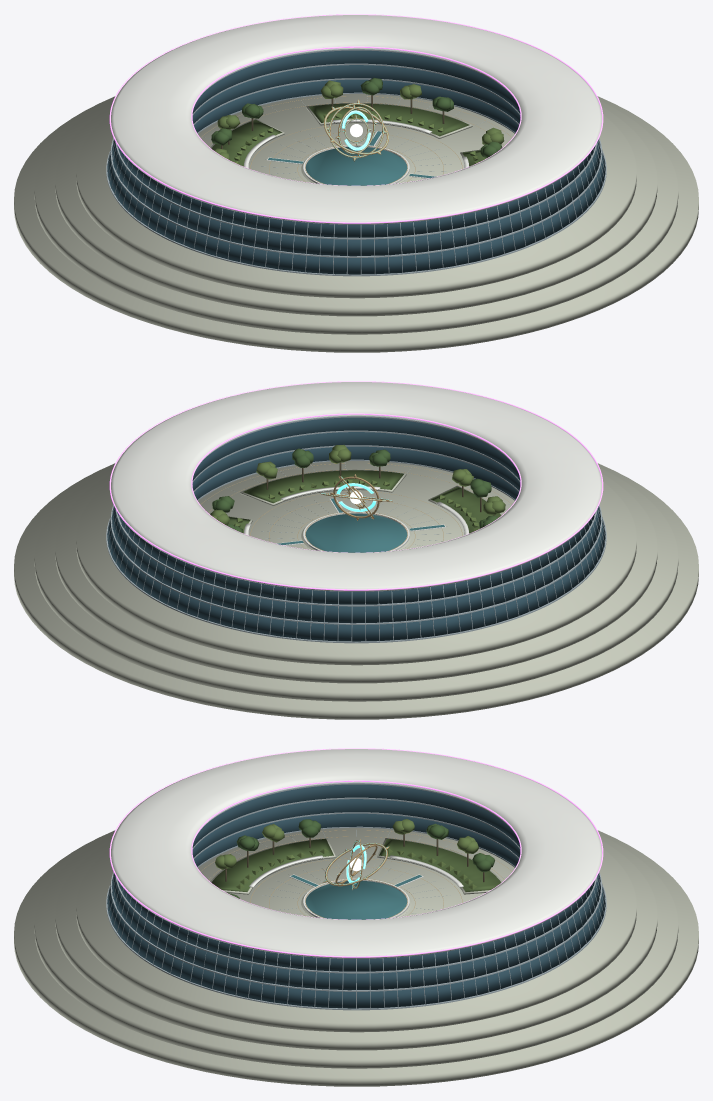
File: ring-low.glb
3 views of the same model, one above another, from view 1: azimuth 30°, elevation 25°; view 2: azimuth 150°, elevation 25°; view 3: azimuth 270°, elevation 25° (orthographic).
Visible parts, largest first — view 1: ring / Ring limestone paving, ring / Ring porcelain crown, ring / Ring blue glazing, ring / Ring silver framing, ring / Ring meadow, ring / Ring reflecting water, ring / Ring violet edge, ring / Ring canopy 1, ring / Ring canopy 0, ring / Ring champagne bronze; view 2: ring / Ring limestone paving, ring / Ring porcelain crown, ring / Ring blue glazing, ring / Ring silver framing, ring / Ring meadow, ring / Ring reflecting water, ring / Ring violet edge, ring / Ring canopy 1, ring / Ring canopy 0, ring / Ring champagne bronze; view 3: ring / Ring limestone paving, ring / Ring porcelain crown, ring / Ring blue glazing, ring / Ring silver framing, ring / Ring meadow, ring / Ring reflecting water, ring / Ring violet edge, ring / Ring canopy 1, ring / Ring canopy 0, ring / Ring champagne bronze.
Boxes of the visible parts, bbox=[...] form: ring / Ring limestone paving: bbox=[14, 94, 698, 352]; ring / Ring porcelain crown: bbox=[111, 15, 601, 224]; ring / Ring blue glazing: bbox=[107, 50, 605, 274]; ring / Ring silver framing: bbox=[106, 48, 606, 276]; ring / Ring meadow: bbox=[211, 103, 486, 166]; ring / Ring reflecting water: bbox=[268, 131, 436, 185]; ring / Ring violet edge: bbox=[109, 14, 603, 223]; ring / Ring canopy 1: bbox=[214, 80, 504, 164]; ring / Ring canopy 0: bbox=[211, 77, 501, 157]; ring / Ring champagne bronze: bbox=[200, 96, 510, 184]; ring / Ring limestone paving: bbox=[14, 461, 698, 719]; ring / Ring porcelain crown: bbox=[111, 382, 601, 591]; ring / Ring blue glazing: bbox=[107, 417, 605, 641]; ring / Ring silver framing: bbox=[106, 415, 606, 643]; ring / Ring meadow: bbox=[228, 470, 501, 533]; ring / Ring reflecting water: bbox=[277, 498, 444, 552]; ring / Ring violet edge: bbox=[109, 381, 603, 590]; ring / Ring canopy 1: bbox=[210, 445, 505, 531]; ring / Ring canopy 0: bbox=[212, 448, 497, 532]; ring / Ring champagne bronze: bbox=[201, 463, 511, 551]; ring / Ring limestone paving: bbox=[14, 828, 698, 1086]; ring / Ring porcelain crown: bbox=[111, 749, 601, 958]; ring / Ring blue glazing: bbox=[107, 784, 605, 1008]; ring / Ring silver framing: bbox=[106, 782, 606, 1010]; ring / Ring meadow: bbox=[211, 838, 501, 891]; ring / Ring reflecting water: bbox=[290, 875, 421, 919]; ring / Ring violet edge: bbox=[109, 748, 603, 957]; ring / Ring canopy 1: bbox=[215, 819, 478, 889]; ring / Ring canopy 0: bbox=[226, 819, 494, 898]; ring / Ring champagne bronze: bbox=[202, 830, 512, 918].
Size of the model in its own units: 132 by 21.86 by 132.
